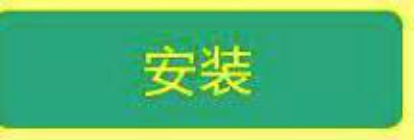Button: (1, 1, 413, 139)
